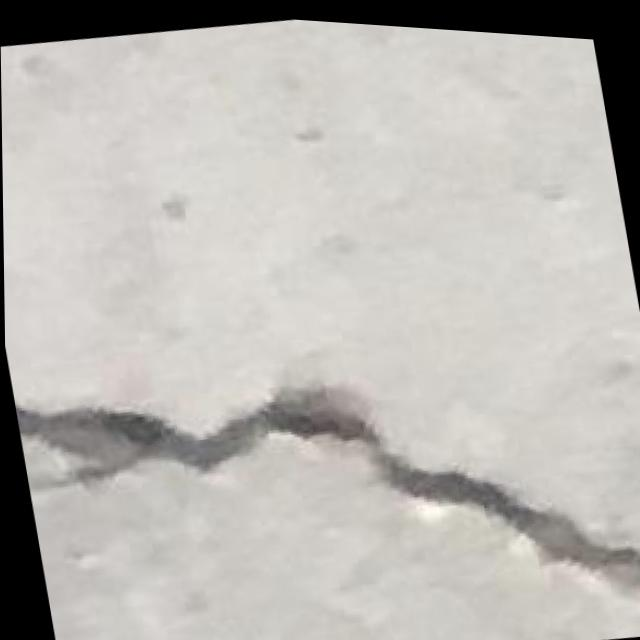Crack: (10, 274, 640, 640)
